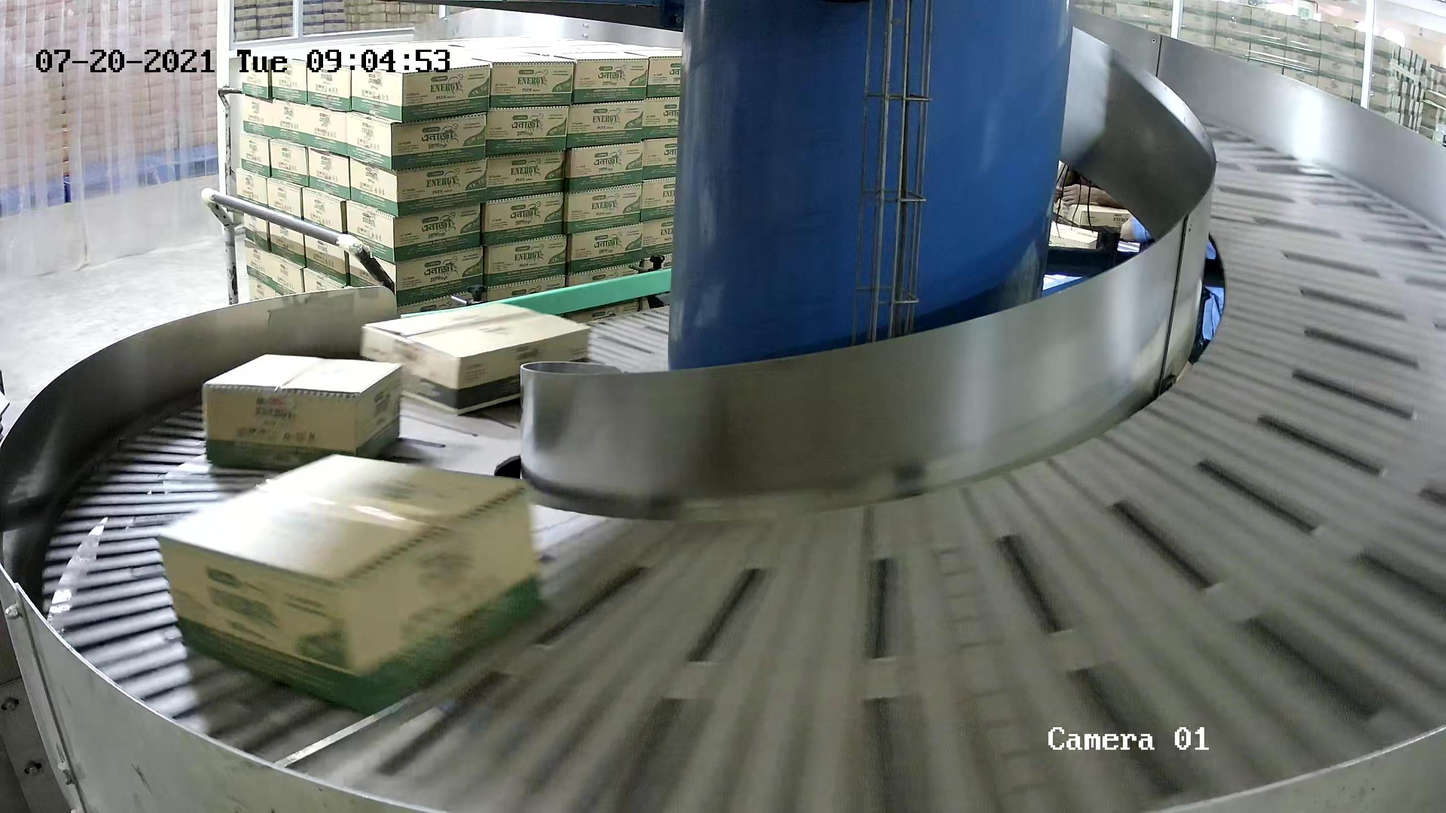Box: (152, 450, 545, 713), (358, 300, 593, 417), (202, 353, 403, 466)
